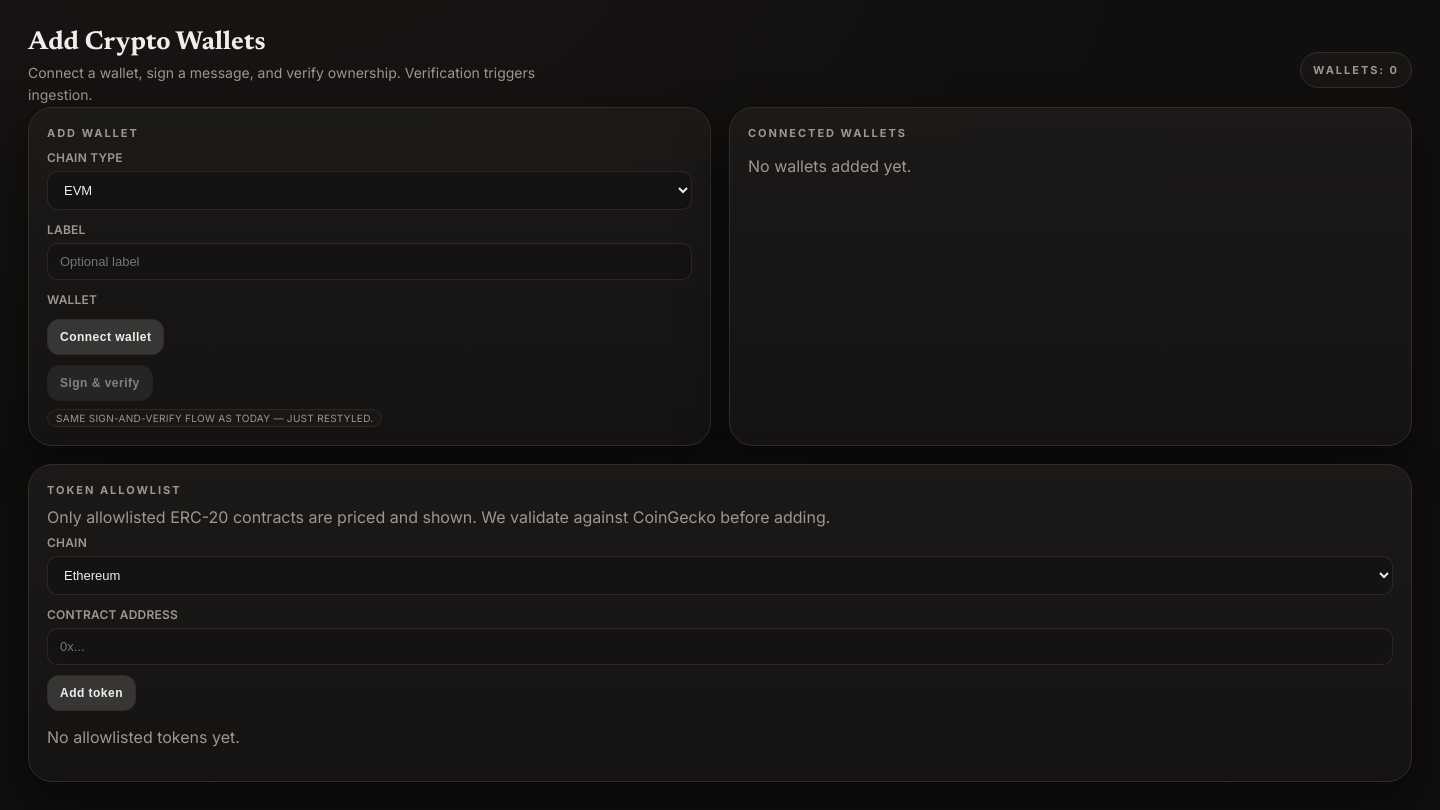
Scenario: CryptoWallets route › shows error when trying to connect EVM without provider
Click the button "Connect wallet" at (106, 337), box [47,319,164,355]
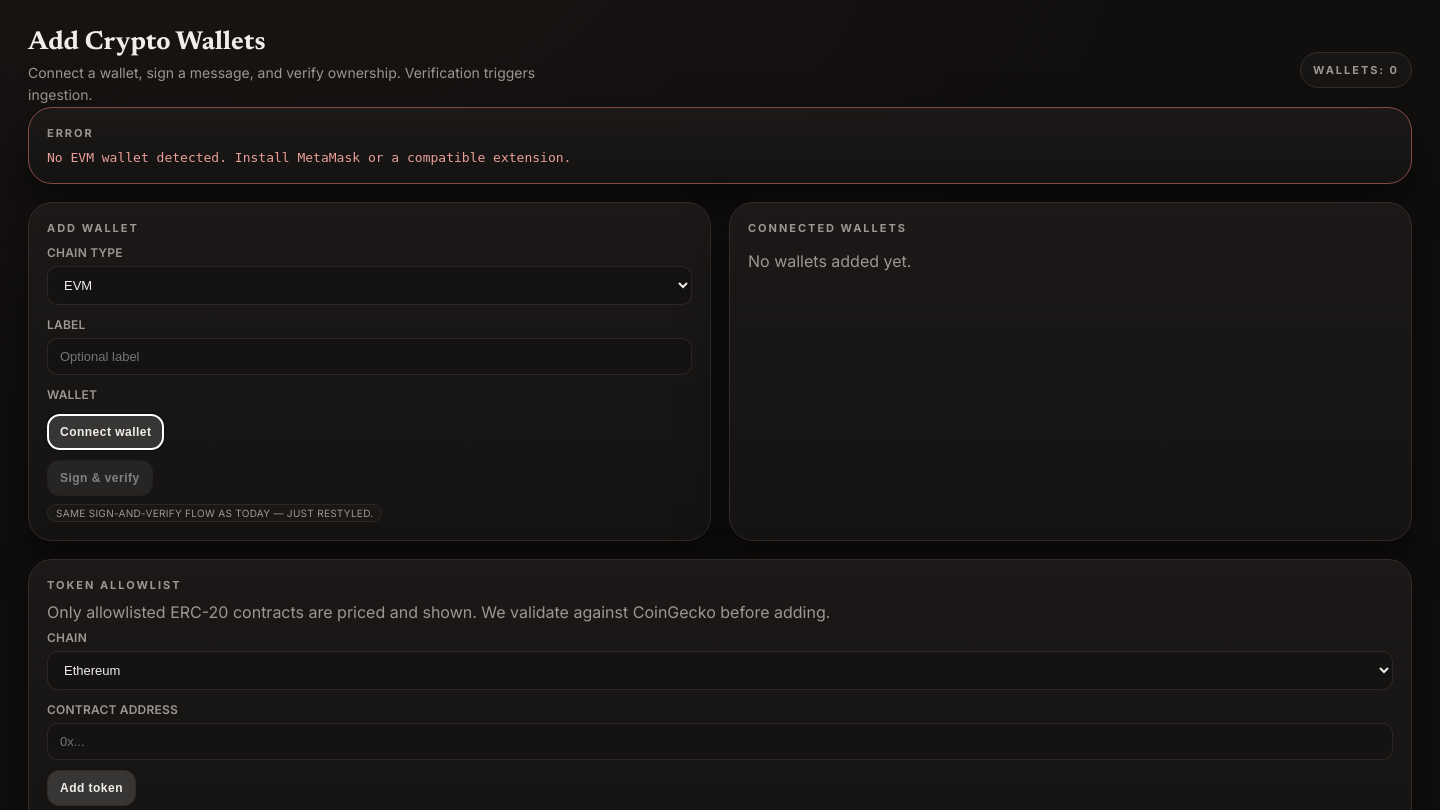
Check: the text "No EVM wallet detected" is shown, box [47,150,571,165]
